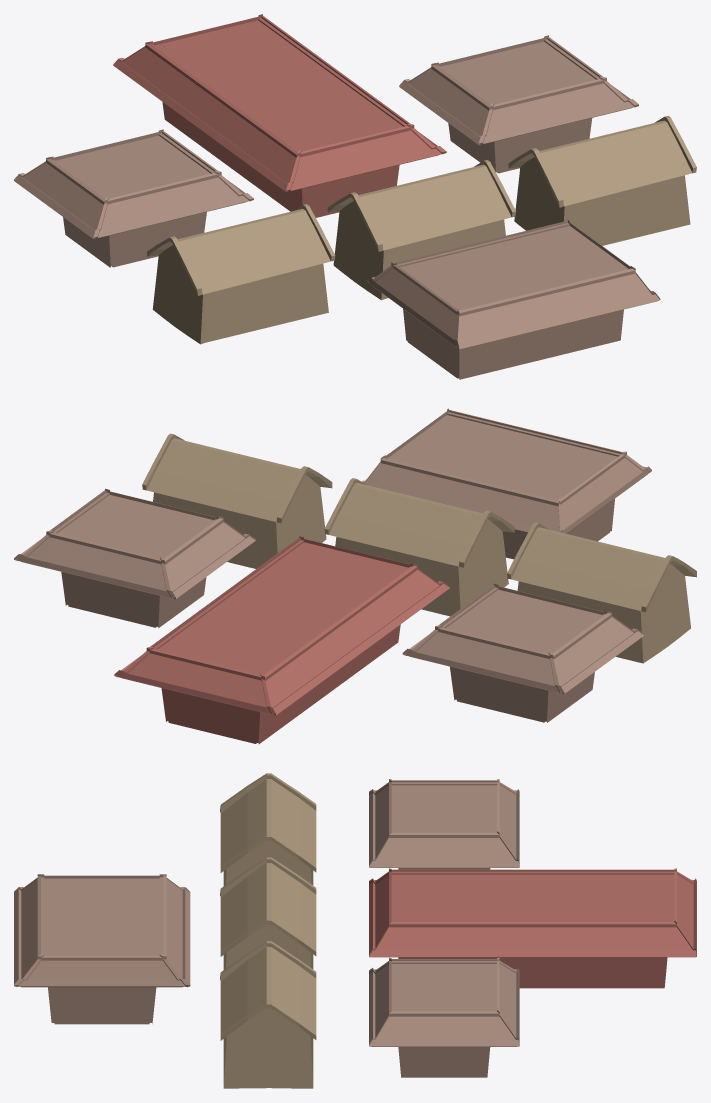
Rendered from SusakuStage1.fbx.
3 renders of one model, top to bottom at view 1: azimuth 30°, elevation 25°; view 2: azimuth 150°, elevation 25°; view 3: azimuth 270°, elevation 25°, orthographic. The views are drawn at different scales.
Visible parts, largest first — view 1: Cube, Cube.001, Cube.003, Cube.002; view 2: Cube, Cube.001, Cube.003, Cube.002; view 3: Cube.003, Cube.001, Cube, Cube.002.
Part boxes in pixels (x1,y1,x2,y2): Cube: [147, 115, 696, 344]; Cube.001: [14, 35, 638, 267]; Cube.003: [113, 14, 446, 217]; Cube.002: [366, 219, 660, 379]; Cube: [142, 433, 696, 663]; Cube.001: [14, 488, 644, 722]; Cube.003: [114, 536, 450, 744]; Cube.002: [361, 408, 651, 559]; Cube.003: [369, 868, 696, 988]; Cube.001: [369, 779, 519, 1077]; Cube: [220, 773, 316, 1088]; Cube.002: [14, 874, 190, 1024].
Size of what is drawn, in the model's own units: 33.48 by 5.89 by 38.16.
